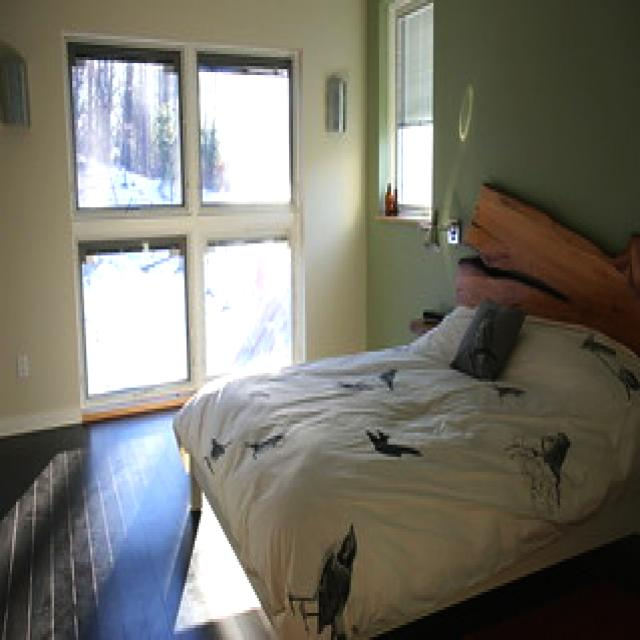bed: (191, 180, 637, 640)
